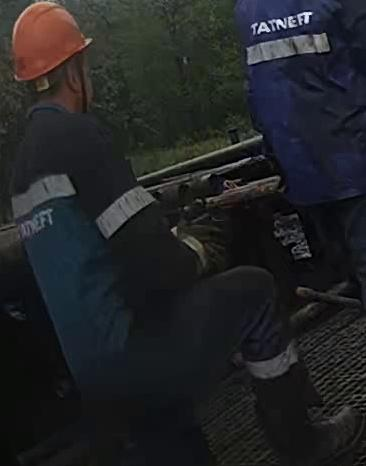gloves: (172, 214, 228, 273)
helmet: (11, 0, 92, 82)
vest: (8, 105, 202, 392), (232, 0, 365, 206)
